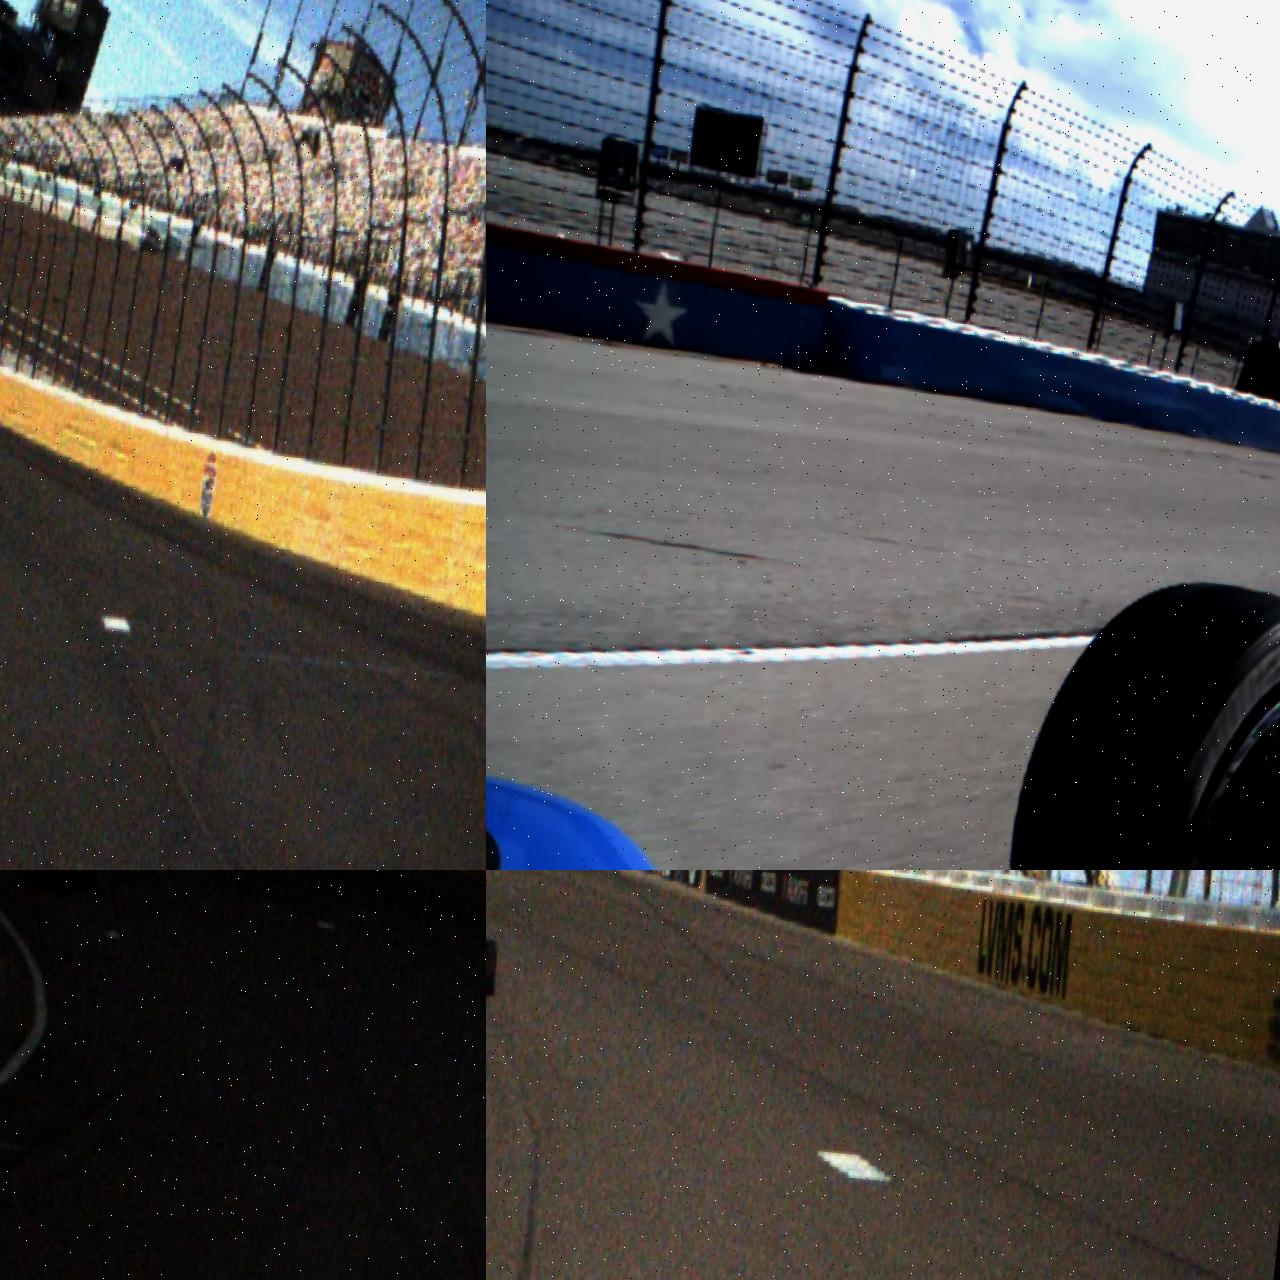AV: (22, 870, 104, 898)
Wheel: (989, 564, 1280, 870), (486, 938, 498, 998), (80, 870, 98, 896), (22, 870, 38, 890)
